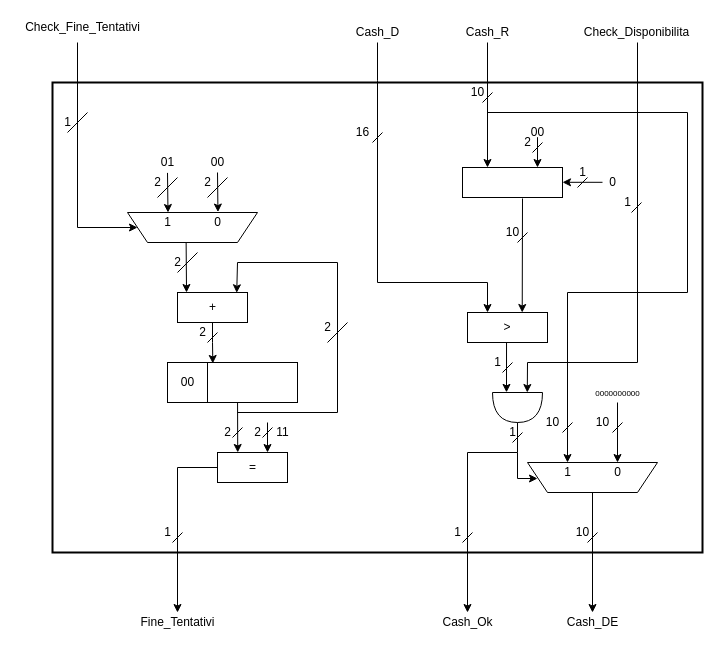
Some shapes in this 720 by 649 pixel diagram are drawn without their labels. Here are the shapes that lost their labels. From the top down, the box of each, then its label:
(462, 166, 562, 198): SHIFTER
(206, 362, 298, 402): REGISTRO
